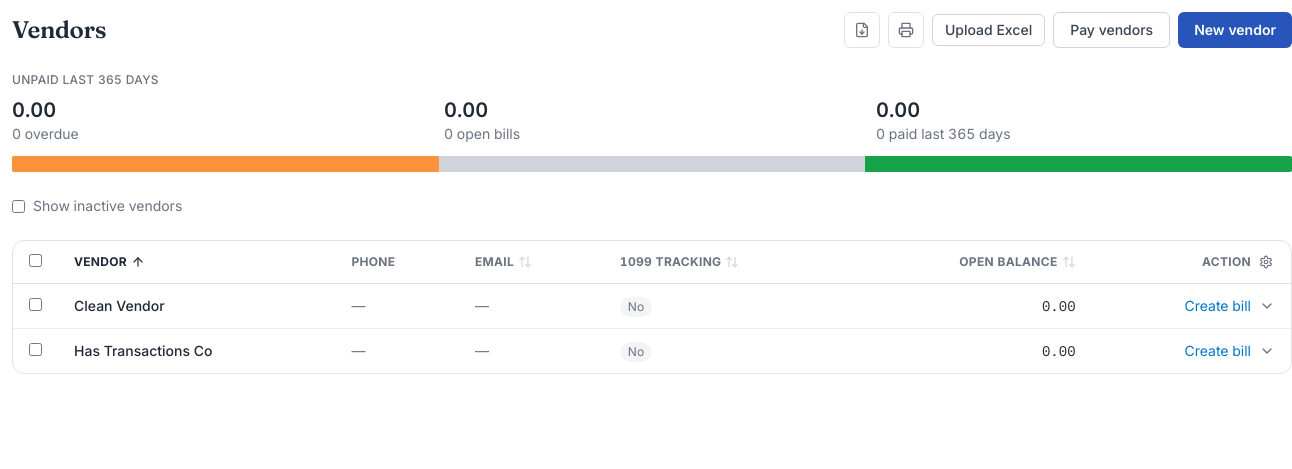
Test: VendorListPage › shows the batch actions bar once a row is selected, with the right count
Expected: the text "selected" is not shown
Click the checkbox named "Select v2": (36, 304) [29, 298, 42, 311]
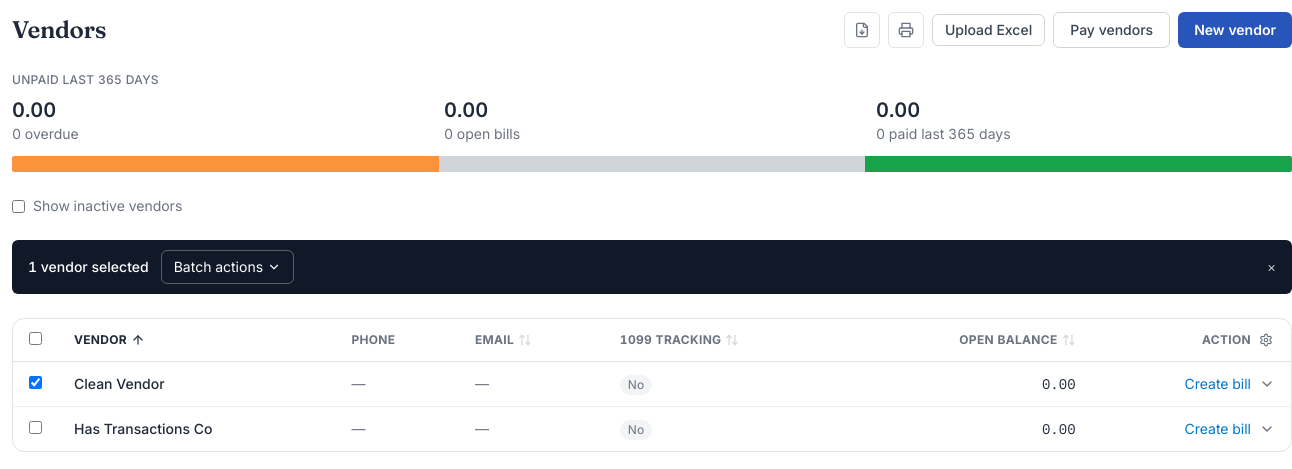
Result: the text "1 vendor selected" is shown at [28, 257, 149, 277]
